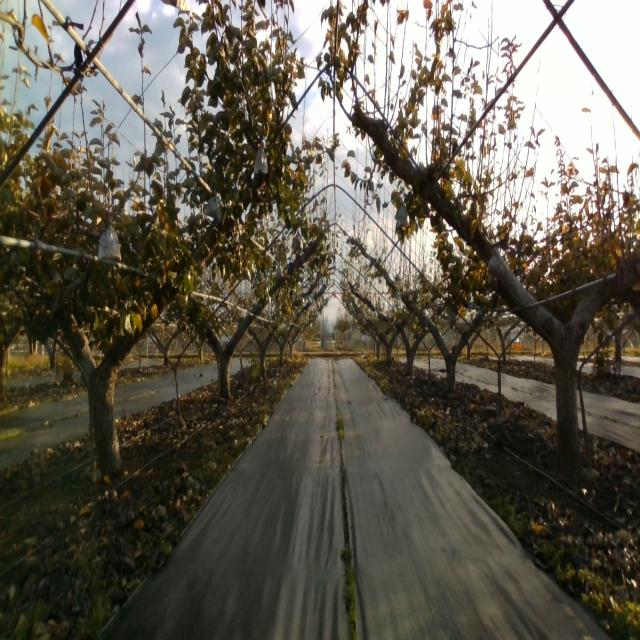pearbags: (97, 217, 122, 263), (486, 254, 504, 288), (204, 191, 222, 223), (396, 202, 410, 229), (254, 147, 268, 174), (445, 306, 456, 327)
